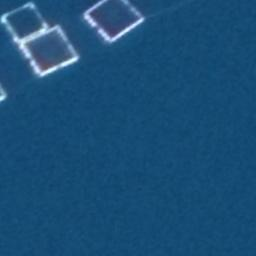square_solid: (17, 21, 85, 81), (81, 1, 148, 47), (1, 1, 51, 47)
